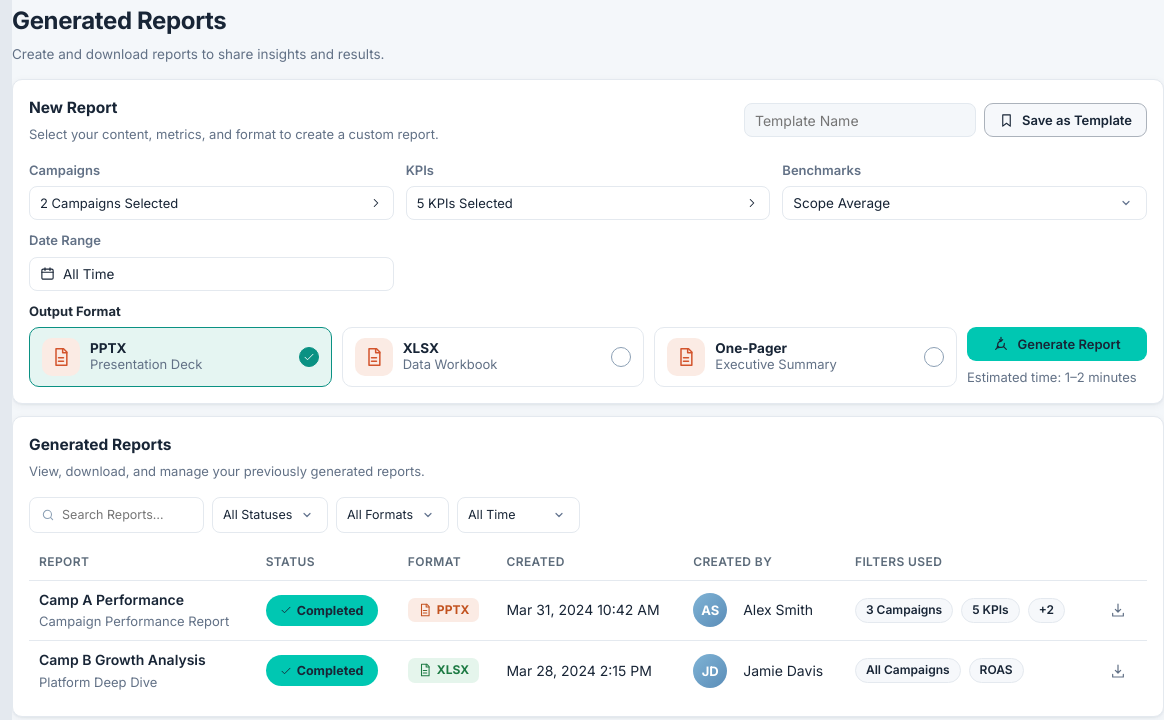
Test: ReportsPage › seeds demo history rows that regenerate through the backend
Expected: the text "Camp A Performance" is shown, x1=39 y1=591 x2=184 y2=608
Expected: the text "Completed" next to "Campaign Performance Report" is shown, x1=297 y1=603 x2=364 y2=618
Click the button named "Download Camp A Performance" at (1118, 610), box x1=1103 y1=595 x2=1133 y2=625
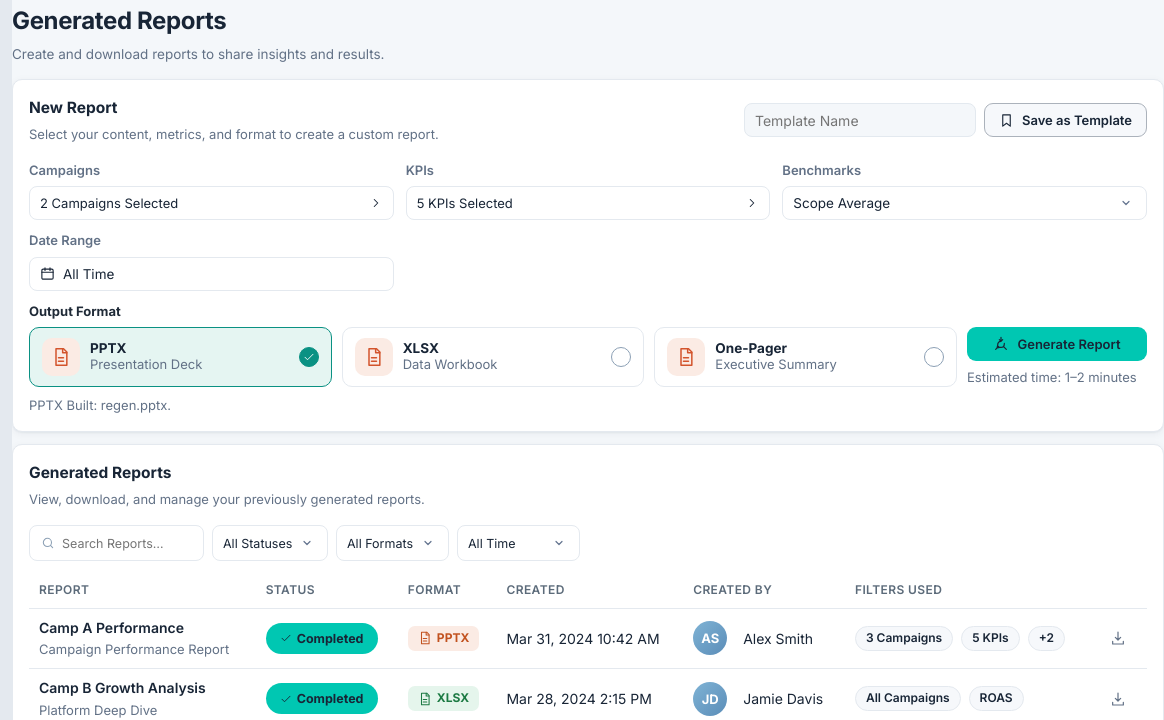
Expected: the text "PPTX Built: regen.pptx." is shown, x1=29 y1=397 x2=171 y2=413
